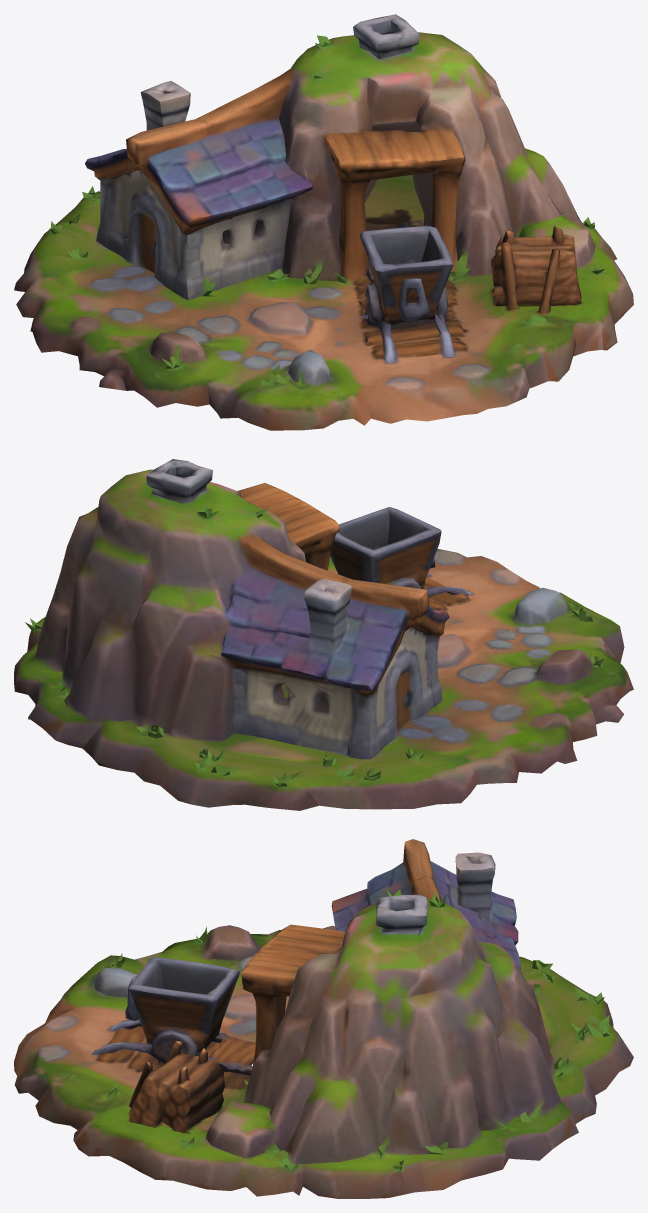
Rendered from village_hills_a.glb.
The picture shows the model from 3 angles, top to bottom: view 1: azimuth 30°, elevation 25°; view 2: azimuth 150°, elevation 25°; view 3: azimuth 270°, elevation 25°; orthographic projection.
Parts seen in each view (by area): view 1: world; view 2: world; view 3: world.
Boxes of the visible parts, x1,y1,x2,y2 form: world: [14, 14, 633, 430]; world: [14, 459, 633, 810]; world: [14, 839, 633, 1198].
Size of the model in its own units: 0.9748 by 0.3855 by 0.9907.
Materials: 1 (1 with a texture image).
